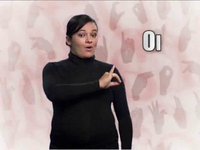oi: (98, 66, 120, 91)
